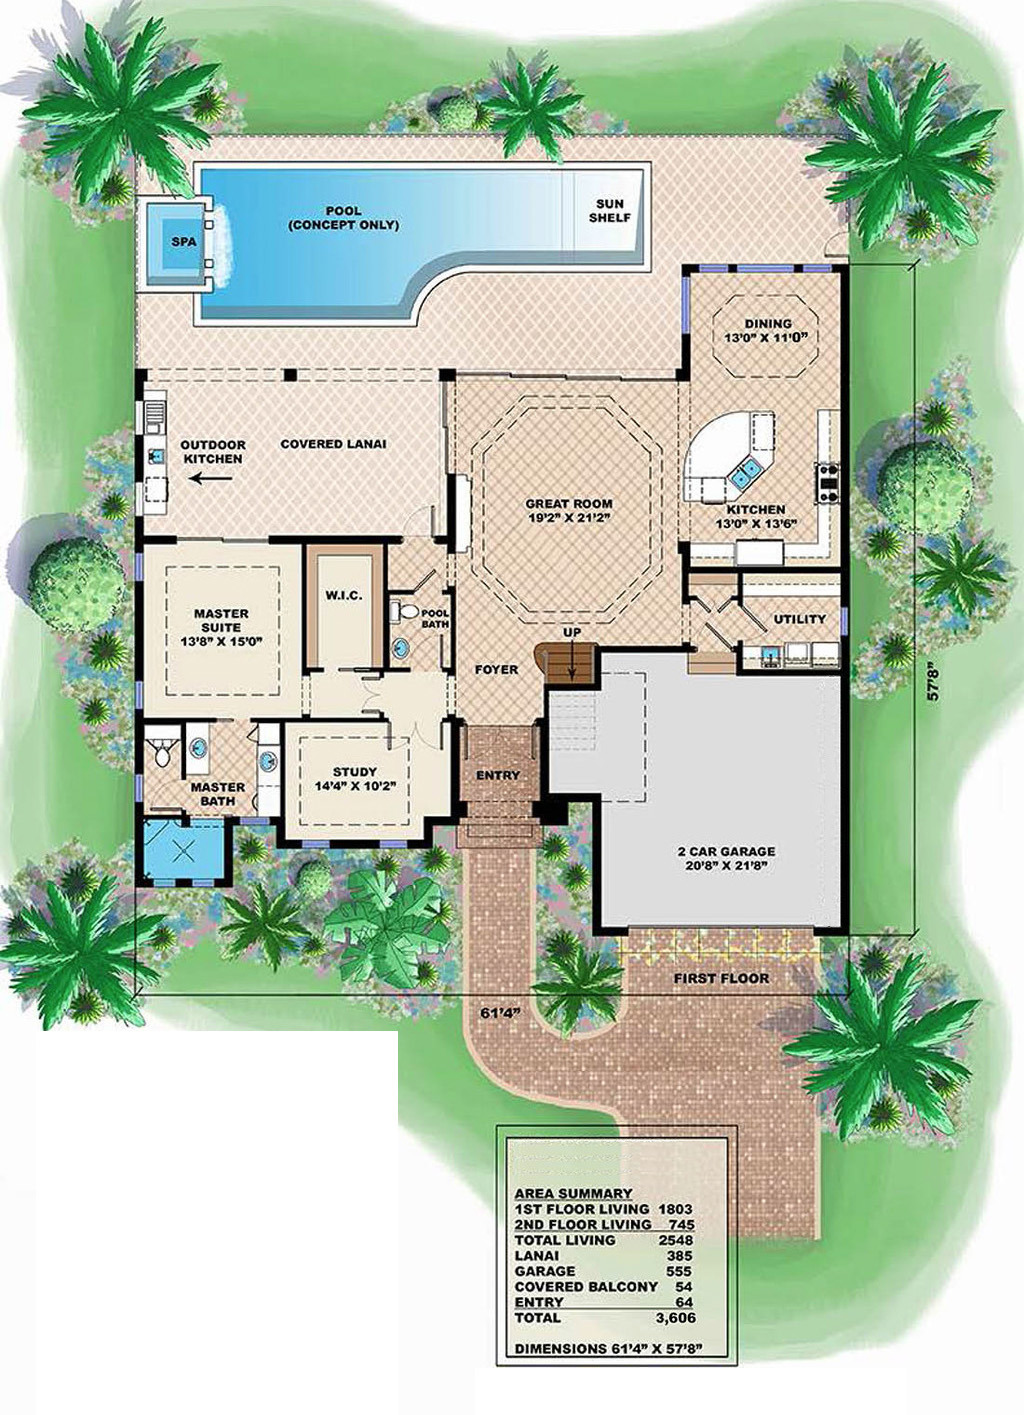large_sink: (382, 595, 422, 627), (153, 728, 181, 768)
stairs: (541, 624, 599, 756)
